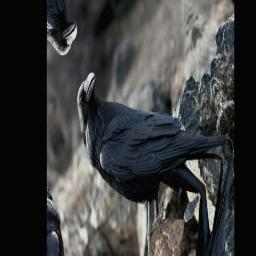Crow: (67, 0, 232, 256)
